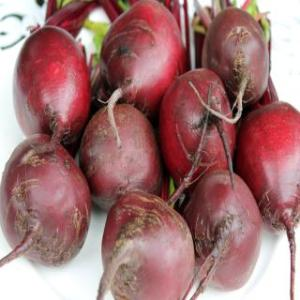beet: (0, 134, 92, 270), (100, 191, 194, 299), (12, 26, 90, 146), (100, 1, 186, 106), (186, 171, 260, 289), (236, 102, 300, 236), (160, 68, 236, 178), (79, 106, 162, 205), (203, 9, 273, 106)
